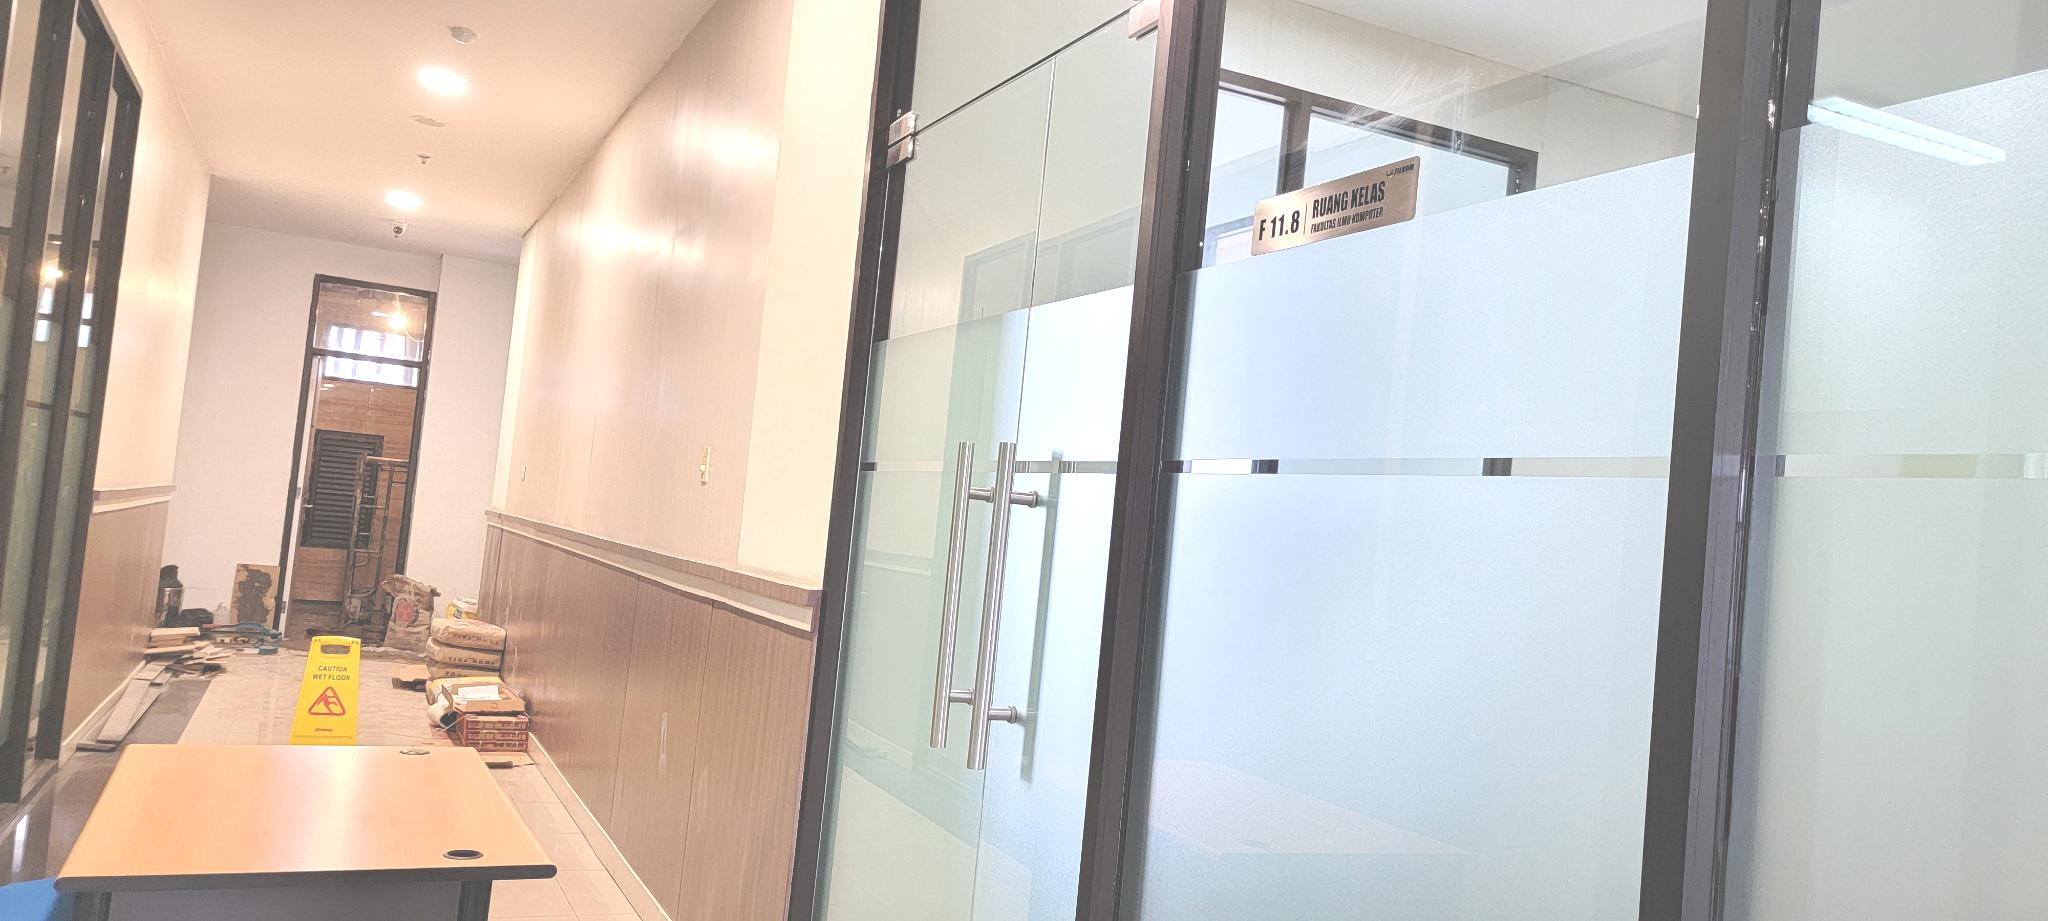plate: (1247, 155, 1424, 256)
